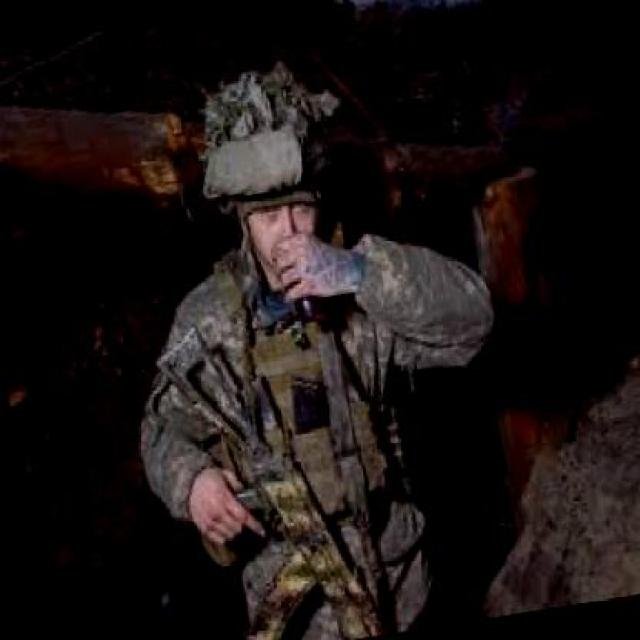MIL_Pax: (84, 46, 536, 639)
